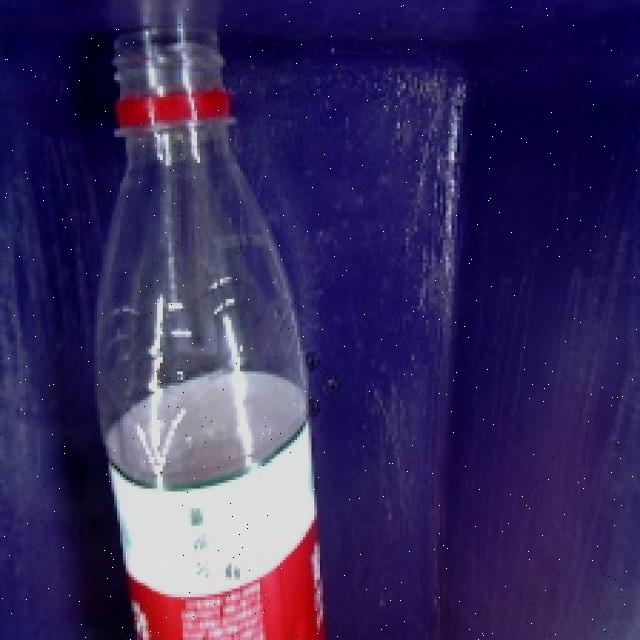plastic: (82, 16, 343, 634)
